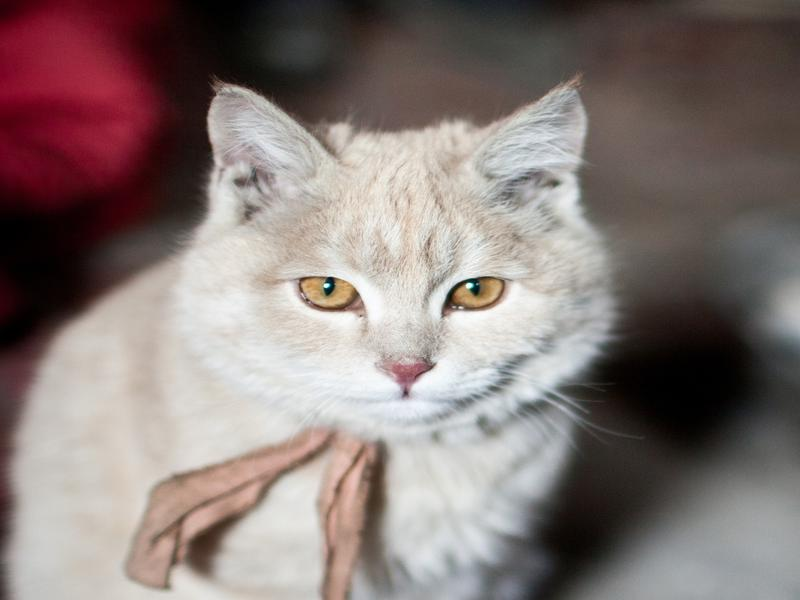cat: (14, 76, 619, 599)
